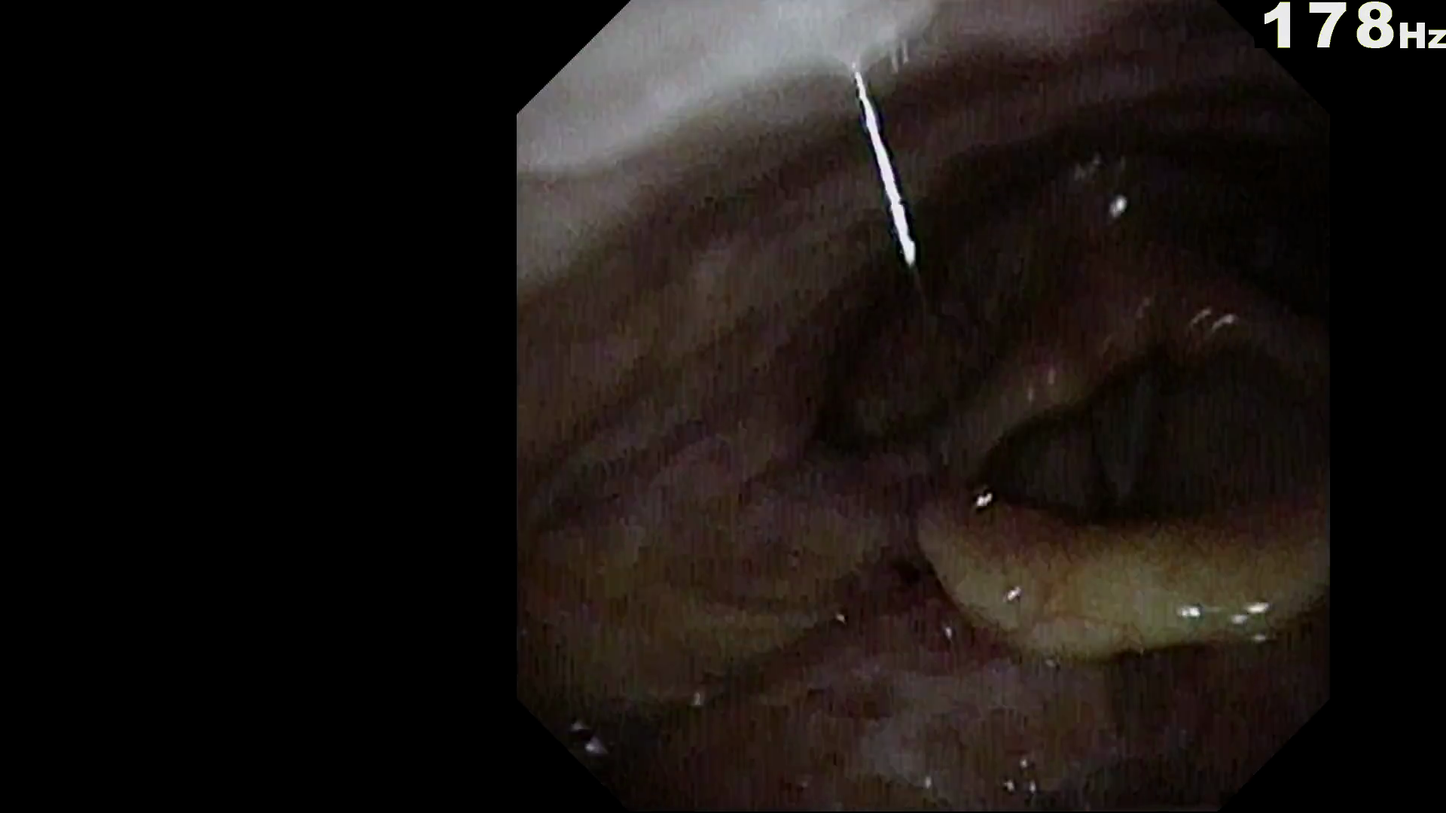epiglottis: (892, 497, 1307, 685)
trachea: (1058, 388, 1188, 532)
